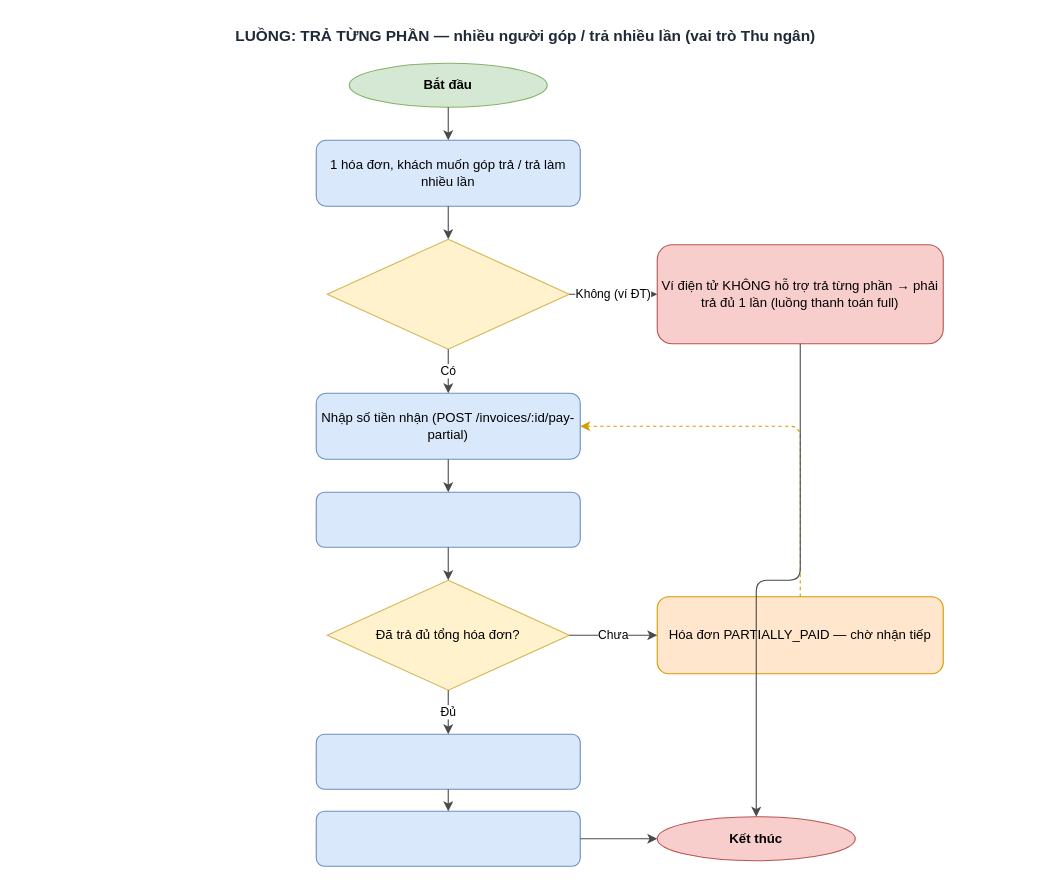
Some shapes in this 1049 by 886 pixel diagram are drawn without their labels. The box of each missing label's shape, as (x1, y1, x2, y2) in pixels:
Cộng dồn số đã trả (running_paid_vnd): (315, 491, 580, 547)
Hóa đơn PAID (đã thanh toán đủ): (315, 733, 580, 789)
Phương thức là tiền mặt?: (326, 238, 569, 349)
Đóng phiên (CLOSED): (315, 810, 580, 866)
